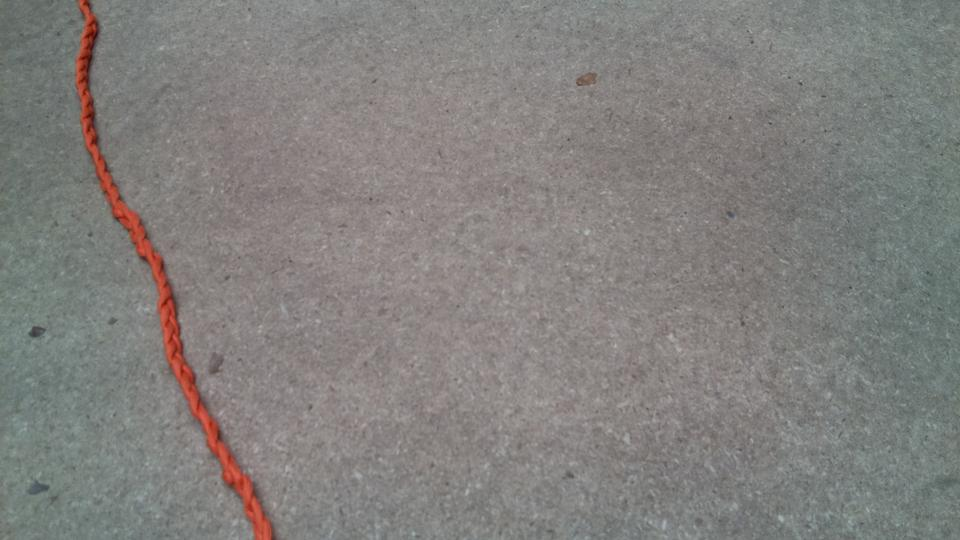rope: (72, 1, 278, 539)
